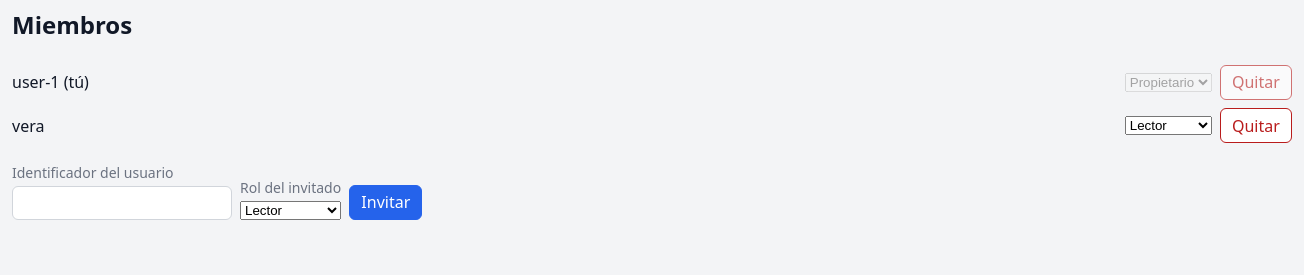
MembersPanel › si el backend responde LAST_OWNER se muestra el mensaje en espanol
Select "Editor" in the dropdown named "Rol de vera" at (1168, 126), box [1125,116,1212,135]
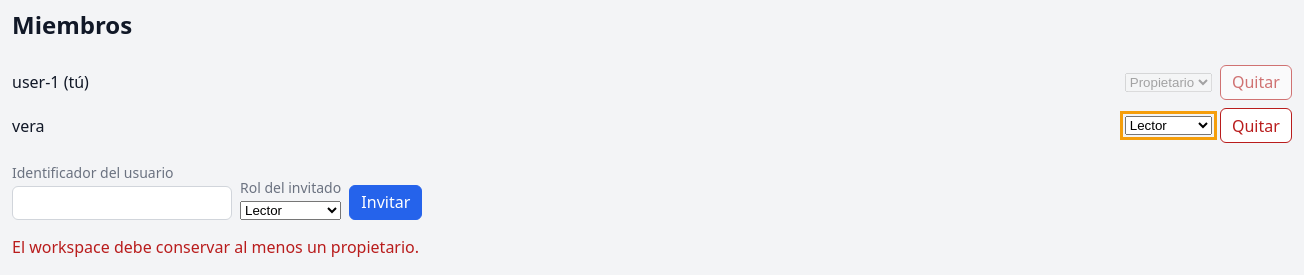
Result: the message shows "al menos un propietario" at [12,236,419,258]
